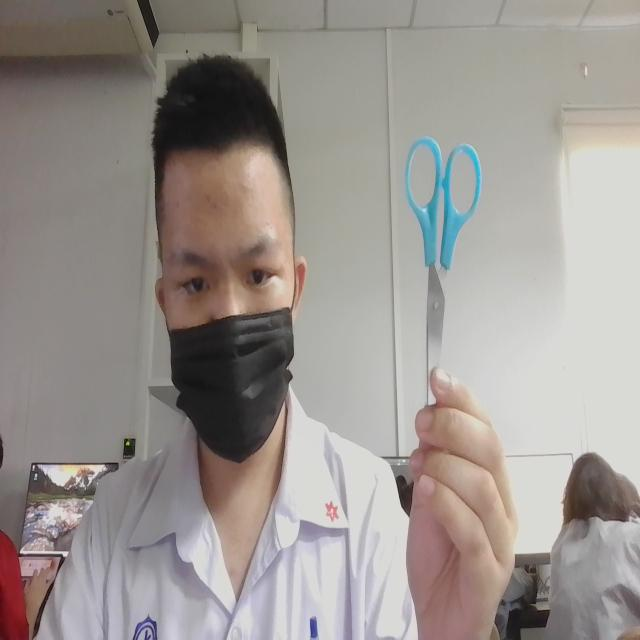scissors: (396, 132, 491, 394)
